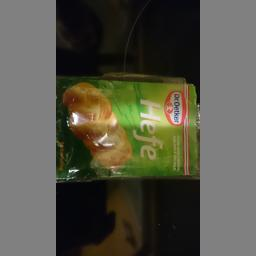cake: (54, 74, 196, 183)
